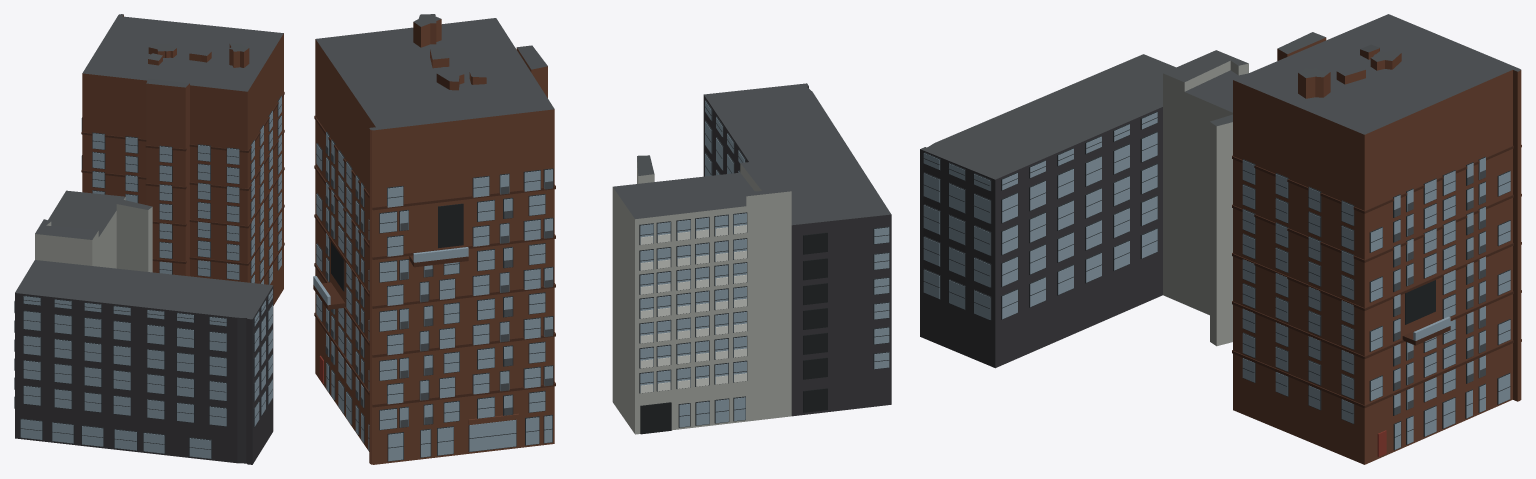
The model's file is oostenburgermiddenstraat-228.glb.
3 renders of one model, left to right at view 1: azimuth 30°, elevation 25°; view 2: azimuth 150°, elevation 25°; view 3: azimuth 270°, elevation 25°, orthographic. The views are drawn at different scales.
Parts seen in each view (by area): view 1: oostenburgermiddenstraat-228; view 2: oostenburgermiddenstraat-228; view 3: oostenburgermiddenstraat-228.
Boxes of the visible parts, x1,y1,x2,y2 form: oostenburgermiddenstraat-228: [14, 14, 284, 464]; oostenburgermiddenstraat-228: [313, 14, 891, 464]; oostenburgermiddenstraat-228: [920, 14, 1521, 464].
Size of the model in its own units: 58.74 by 42.97 by 66.76.
